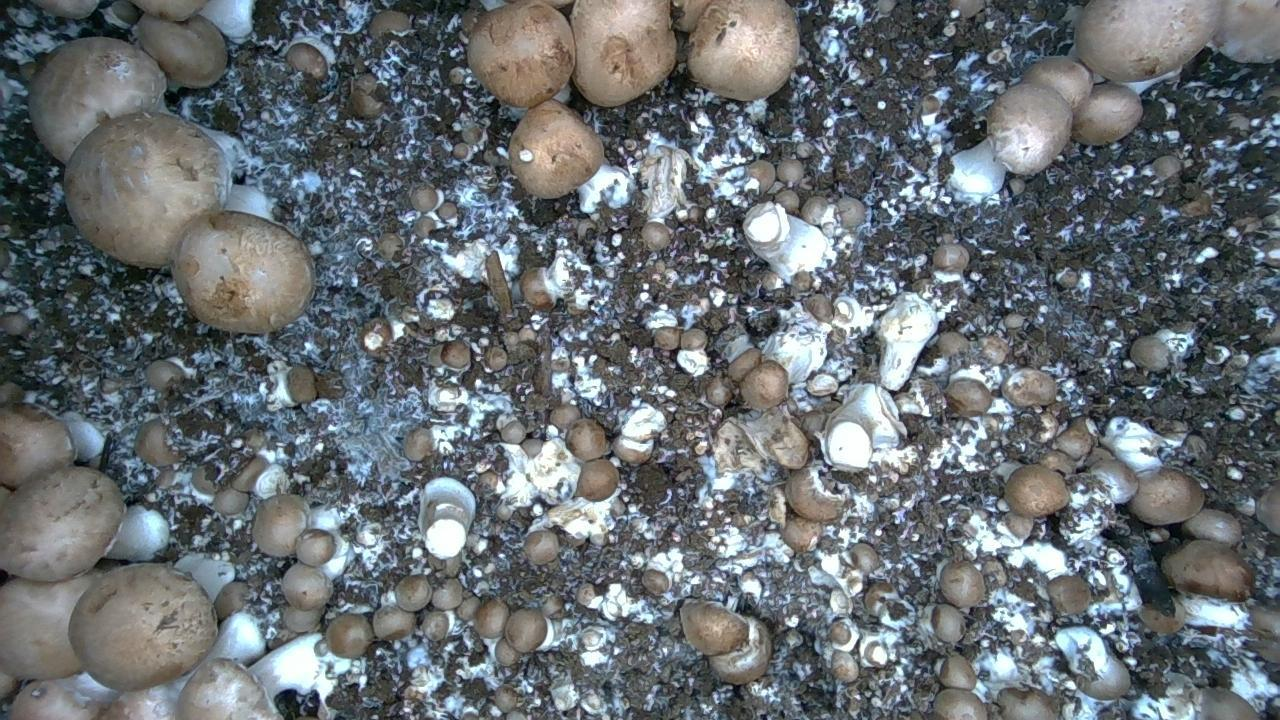BB: (64, 112, 230, 267), (68, 563, 216, 691), (171, 210, 315, 333), (28, 37, 165, 162), (0, 466, 125, 581), (1075, 0, 1221, 82), (467, 0, 574, 107), (571, 0, 675, 106), (688, 0, 798, 100), (0, 571, 96, 679), (509, 99, 604, 198), (987, 83, 1072, 174), (136, 13, 226, 87), (0, 403, 75, 488), (178, 658, 280, 719), (1161, 540, 1253, 601), (9, 673, 116, 719), (1071, 83, 1142, 145), (1211, 0, 1279, 62), (1129, 468, 1204, 524), (102, 675, 189, 719), (1021, 56, 1092, 108), (252, 494, 308, 556), (1004, 464, 1069, 517), (175, 553, 234, 601), (740, 360, 788, 410), (282, 563, 332, 610), (1181, 509, 1241, 546), (135, 418, 181, 466), (940, 561, 985, 608), (326, 613, 373, 658), (1002, 369, 1056, 407), (1197, 687, 1258, 719), (575, 458, 618, 501), (505, 609, 547, 652), (1053, 418, 1096, 460), (998, 688, 1056, 719), (945, 378, 992, 416), (566, 418, 607, 460), (1047, 575, 1091, 614), (1250, 604, 1279, 663), (933, 688, 987, 719), (286, 42, 328, 81), (132, 0, 207, 21), (295, 529, 335, 566), (372, 606, 415, 640), (1130, 335, 1169, 371), (782, 517, 821, 553), (938, 654, 976, 690), (474, 599, 509, 638), (214, 581, 249, 620), (395, 575, 432, 611), (1256, 479, 1279, 535), (931, 604, 964, 643), (523, 530, 559, 564), (727, 347, 761, 383), (33, 0, 98, 18), (369, 10, 410, 38), (282, 606, 323, 633), (287, 365, 316, 403), (431, 578, 464, 610), (932, 243, 969, 271), (212, 487, 248, 515), (403, 427, 433, 460), (1003, 511, 1034, 540), (441, 340, 470, 370), (850, 543, 879, 572), (641, 222, 671, 250), (837, 197, 865, 227), (641, 569, 671, 596), (776, 158, 804, 186), (937, 332, 969, 356), (804, 294, 832, 321), (410, 185, 438, 212), (494, 638, 520, 667), (768, 485, 786, 525), (493, 685, 519, 712), (775, 188, 800, 213), (484, 345, 508, 371), (653, 326, 680, 349), (1004, 313, 1024, 329)
